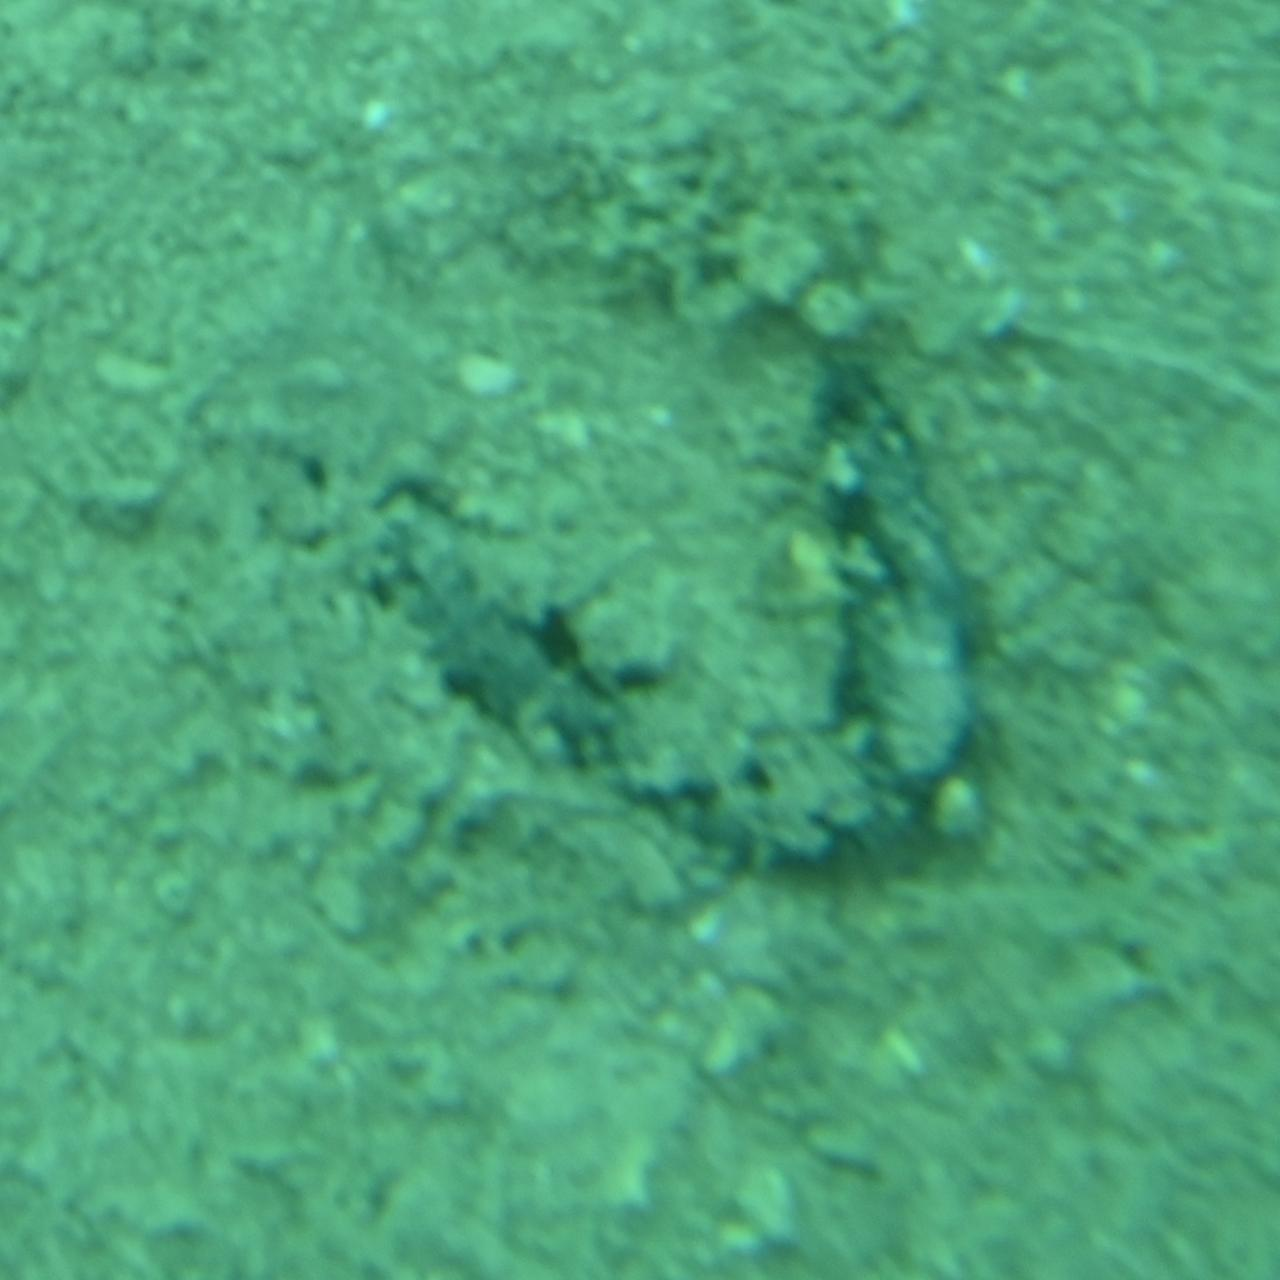Holothuria tubulosa: (262, 360, 1018, 920)
